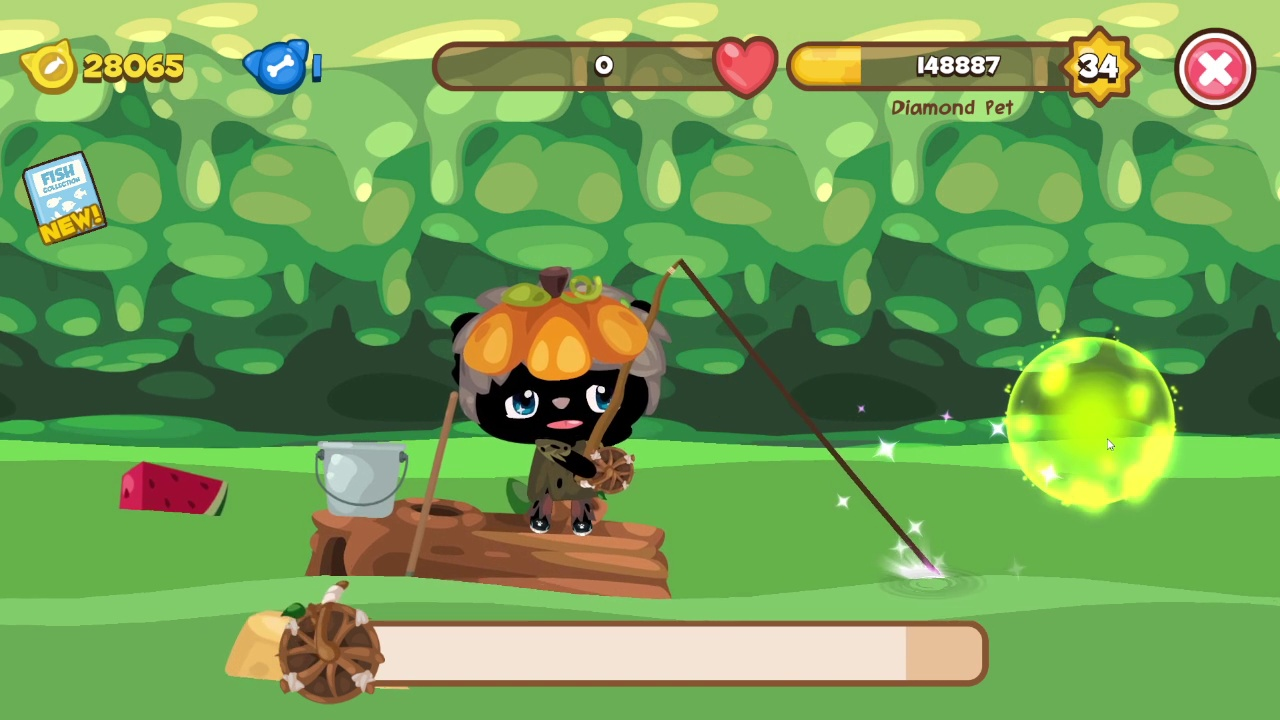point: (1007, 336, 1179, 508)
